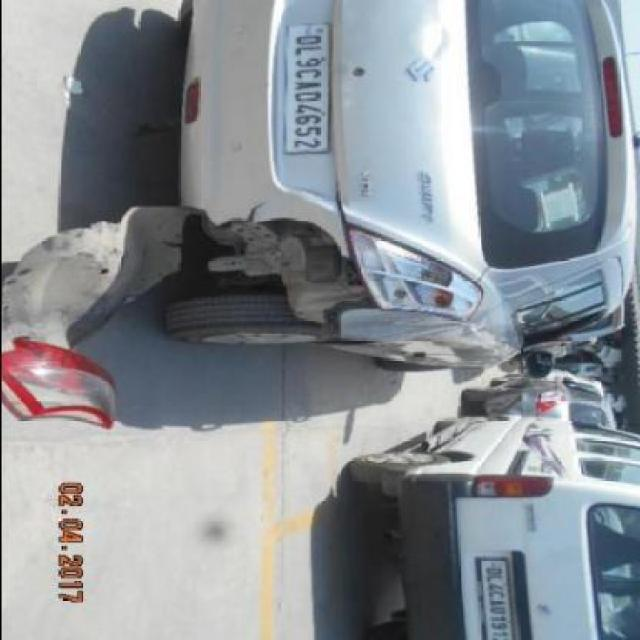damage: (188, 185, 375, 322), (348, 223, 481, 321), (412, 19, 451, 62)
